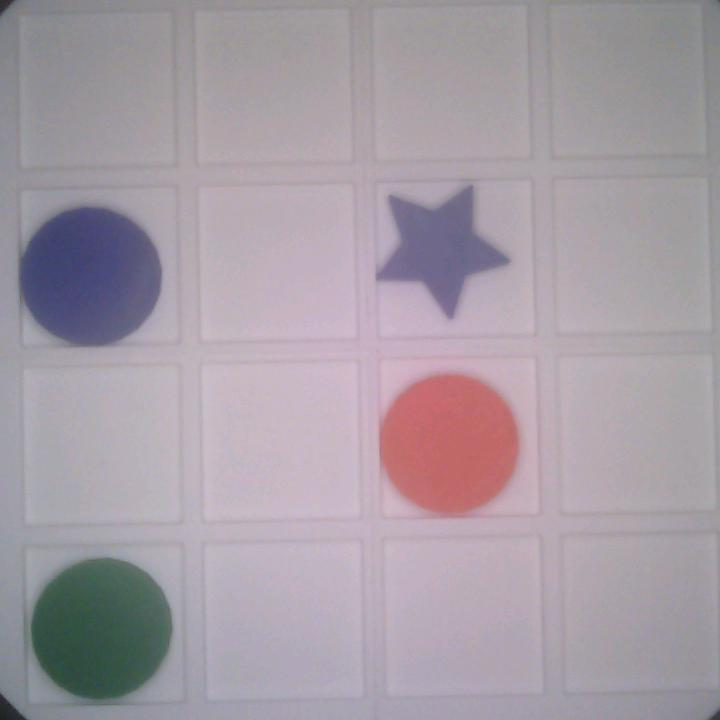Blue circle: (17, 204, 161, 348)
Blue star: (376, 188, 512, 325)
Green circle: (27, 557, 175, 699)
Orange circle: (381, 371, 518, 512)
